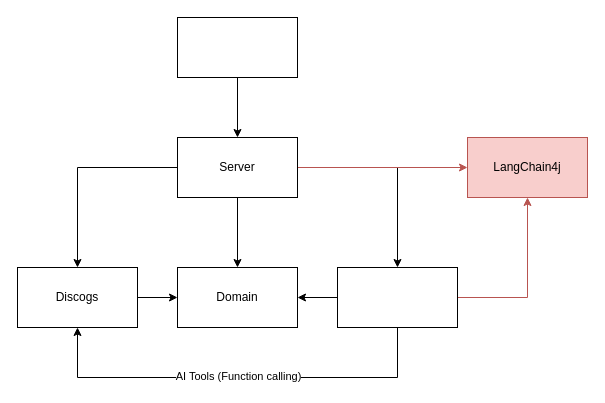
Image size: 605x403. Some labels were removed from this diagram. Each missing label, with the centre of its shape:
"Assistant" belongs at point 397,297.
"UI" belongs at point 237,47.
